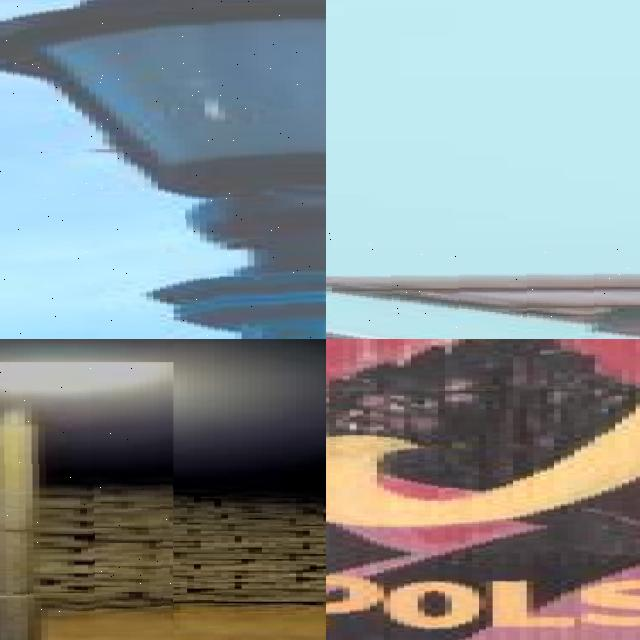street light: (0, 0, 326, 339), (0, 363, 173, 640), (326, 230, 640, 339)
